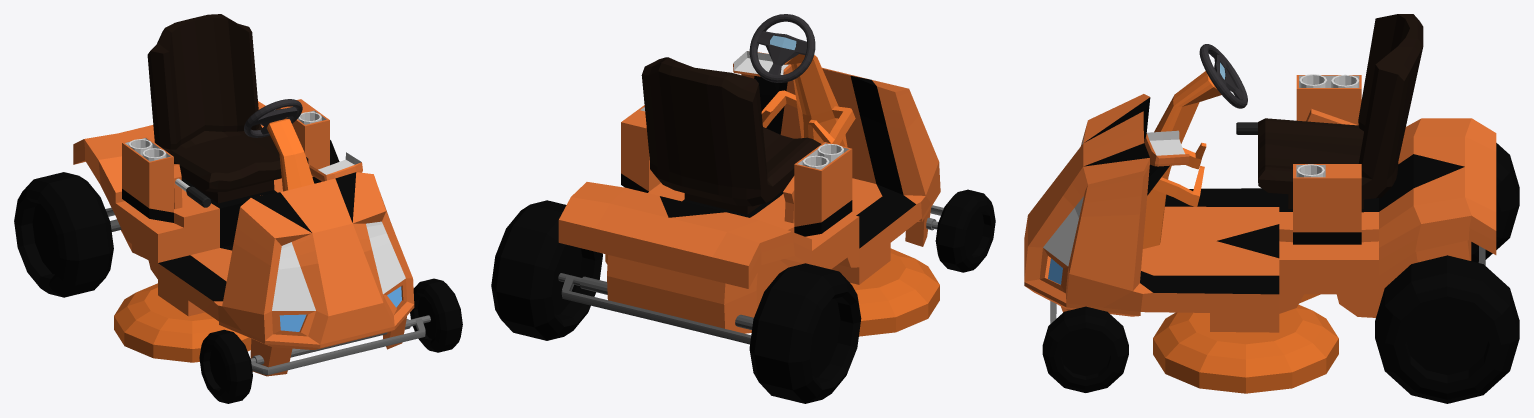
Rendered from NewLawnMower.fbx.
3 views of the same model, side by side, from view 1: azimuth 30°, elevation 25°; view 2: azimuth 150°, elevation 25°; view 3: azimuth 270°, elevation 25° (orthographic). The views are drawn at different scales.
Parts seen in each view (by area): view 1: holder, chair, back whil R, cutter R, bad front whil R, bad front whil L, bad front while cylinder, stiring pole, stiring whil; view 2: holder, chair, back whil R, back whil L, cutter R, stiring pole, bad front whil R, back while cylinder, stiring whil; view 3: holder, back whil L, chair, cutter L, bad front whil L, stiring pole, back whil R, stiring whil.
Boxes of the visible parts, left/top/right/bottom form: holder: left=73, top=99, right=414, bottom=376; chair: left=147, top=14, right=308, bottom=203; back whil R: left=14, top=172, right=113, bottom=297; cutter R: left=114, top=283, right=251, bottom=362; bad front whil R: left=199, top=329, right=252, bottom=403; bad front whil L: left=410, top=278, right=462, bottom=352; bad front while cylinder: left=250, top=315, right=430, bottom=375; stiring pole: left=260, top=119, right=314, bottom=195; stiring whil: left=244, top=99, right=302, bottom=137; holder: left=558, top=51, right=940, bottom=333; chair: left=641, top=57, right=821, bottom=214; back whil R: left=749, top=263, right=861, bottom=403; back whil L: left=491, top=200, right=602, bottom=340; cutter R: left=850, top=248, right=939, bottom=336; stiring pole: left=761, top=54, right=855, bottom=147; bad front whil R: left=935, top=189, right=995, bottom=272; back while cylinder: left=558, top=273, right=753, bottom=344; stiring whil: left=749, top=14, right=815, bottom=82; holder: left=1024, top=75, right=1496, bottom=332; back whil L: left=1375, top=255, right=1519, bottom=403; chair: left=1258, top=14, right=1423, bottom=208; cutter L: left=1153, top=304, right=1338, bottom=393; bad front whil L: left=1042, top=306, right=1128, bottom=392; stiring pole: left=1143, top=71, right=1221, bottom=248; back whil R: left=1471, top=143, right=1519, bottom=262; stiring whil: left=1199, top=44, right=1247, bottom=108.
Bounding box in the file's own units: 3154 × 2693 × 4026.
